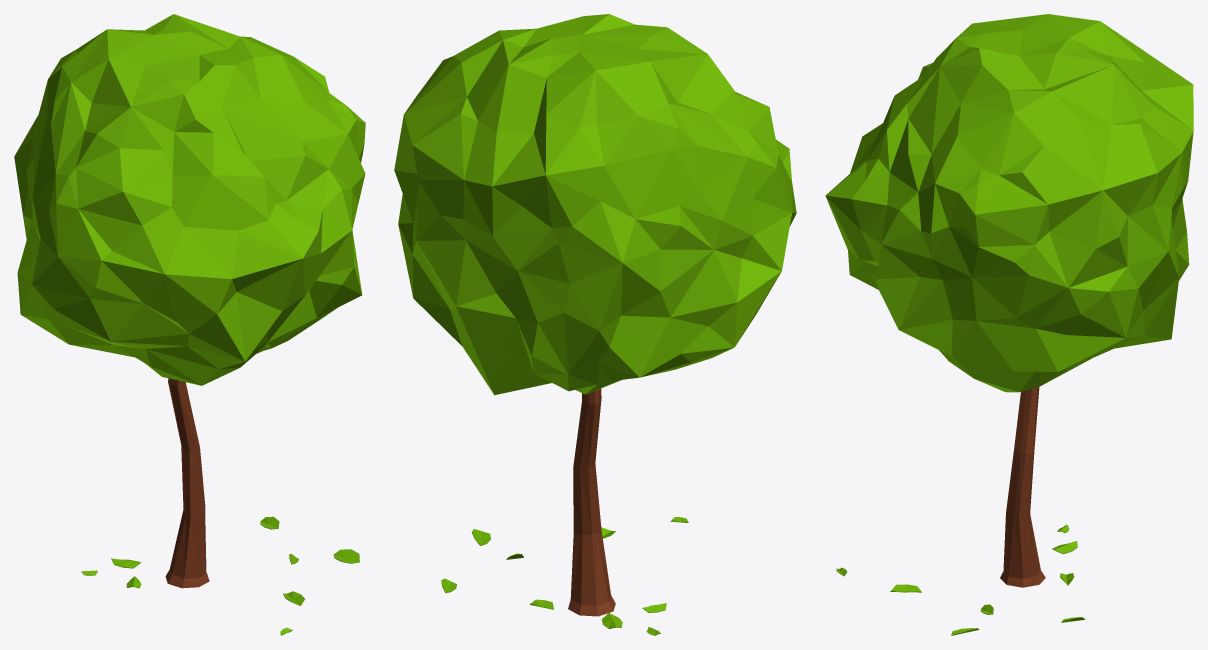
Rendered from smallTree.glb.
3 renders of one model, left to right at view 1: azimuth 30°, elevation 25°; view 2: azimuth 150°, elevation 25°; view 3: azimuth 270°, elevation 25°, orthographic. The views are drawn at different scales.
Visible parts, largest first — view 1: Tree.1, Leaves_pile.1; view 2: Tree.1, Leaves_pile.1; view 3: Tree.1, Leaves_pile.1.
Part boxes in pixels (x1,y1,x2,y2): Tree.1: (14, 14, 365, 588); Leaves_pile.1: (81, 516, 359, 635); Tree.1: (394, 14, 796, 616); Leaves_pile.1: (441, 517, 688, 635); Tree.1: (825, 14, 1193, 587); Leaves_pile.1: (836, 524, 1084, 635).
Bounding box in the file's own units: 3.04 × 4.77 × 2.97.
